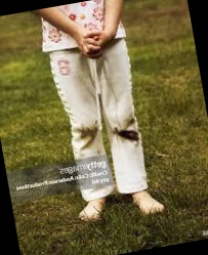earth: (112, 118, 139, 146), (76, 123, 101, 148)
